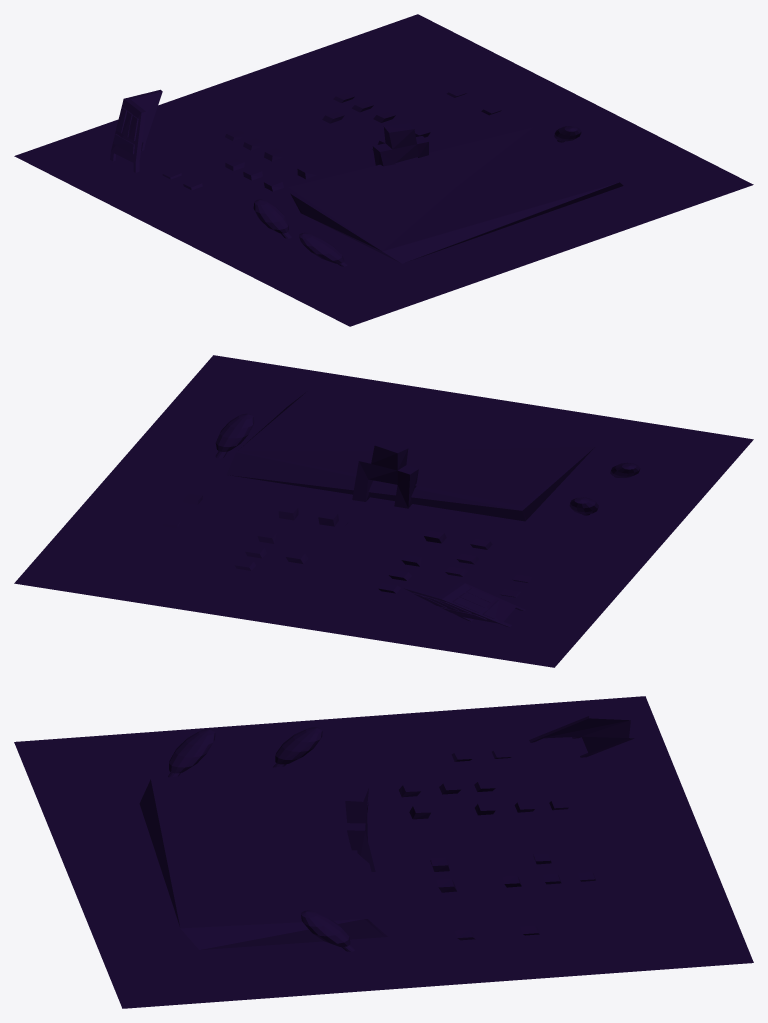
The model's file is grocerystore_oozed.FBX.
The picture shows the model from 3 angles, top to bottom: view 1: azimuth 30°, elevation 25°; view 2: azimuth 150°, elevation 25°; view 3: azimuth 270°, elevation 25°; orthographic projection. The views are drawn at different scales.
Parts seen in each view (by area): view 1: Layer:street, Layer:bldgconcrete, Layer:0, Layer:greenery, Layer:water, Layer:red, Layer:bluegouse; view 2: Layer:street, Layer:bldgconcrete, Layer:0, Layer:water, Layer:greenery, Layer:windows, Layer:red, Layer:bluegouse, Layer:dumpster; view 3: Layer:street, Layer:bldgconcrete, Layer:0, Layer:water, Layer:greenery, Layer:red, Layer:windows, Layer:bluegouse, Layer:dumpster.
Part boxes in pixels (x1,y1,x2,y2): Layer:street: (14, 14, 753, 326); Layer:bldgconcrete: (102, 31, 715, 309); Layer:0: (110, 107, 623, 263); Layer:greenery: (251, 124, 670, 288); Layer:water: (288, 127, 532, 251); Layer:red: (111, 89, 428, 190); Layer:bluegouse: (162, 101, 373, 179); Layer:street: (14, 355, 753, 667); Layer:bldgconcrete: (53, 372, 715, 650); Layer:0: (237, 390, 594, 627); Layer:water: (239, 446, 594, 505); Layer:greenery: (185, 391, 660, 530); Layer:windows: (226, 451, 526, 521); Layer:red: (286, 440, 533, 623); Layer:bluegouse: (245, 530, 520, 597); Layer:dumpster: (234, 511, 492, 570); Layer:street: (14, 696, 753, 1008); Layer:bldgconcrete: (51, 712, 709, 992); Layer:0: (139, 736, 594, 949); Layer:water: (151, 760, 364, 918); Layer:greenery: (99, 727, 393, 973); Layer:red: (345, 716, 636, 871); Layer:windows: (357, 854, 388, 937); Layer:bluegouse: (409, 750, 561, 884); Layer:dumpster: (399, 784, 595, 881).
Bounding box in the file's own units: 291 × 26.59 × 291.
